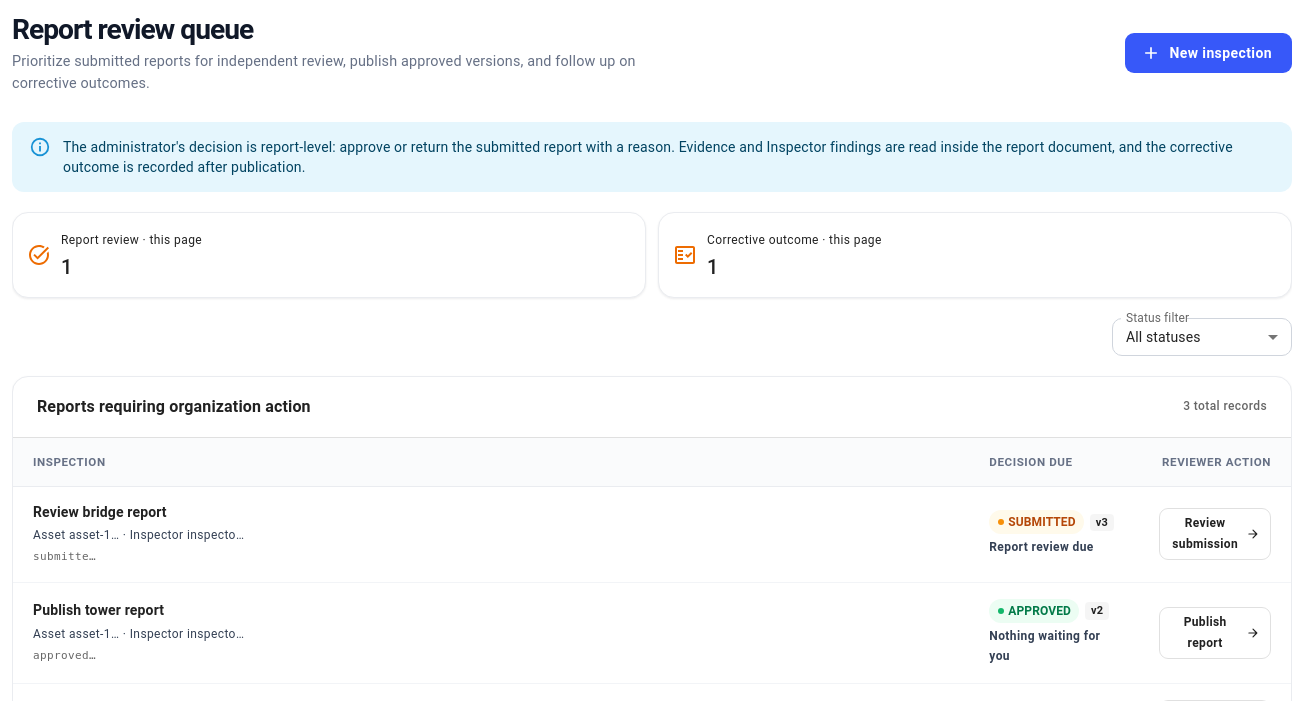
Test: InspectionsPage › presents an Organization Manager review queue with status-specific next actions
expect the heading "Report review queue" is shown: met, box [12,13,253,46]
expect the text "administrator's decision is report-level" is shown: met, box [63,139,1233,175]
Click the button "Review submission". click: (1215, 534)
box: [1159,508,1271,560]
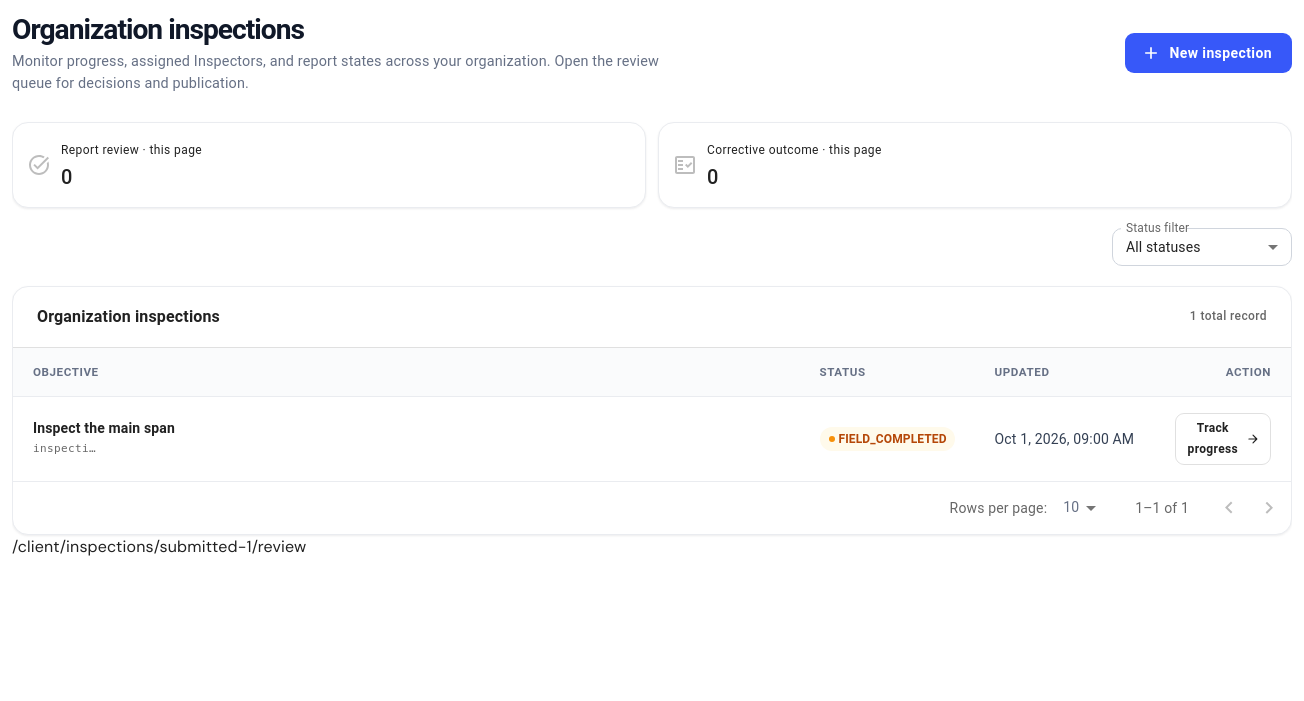
expect the text with test id "location" reads "/client/inspections/submitted-1/review": met, box [12,536,306,556]
